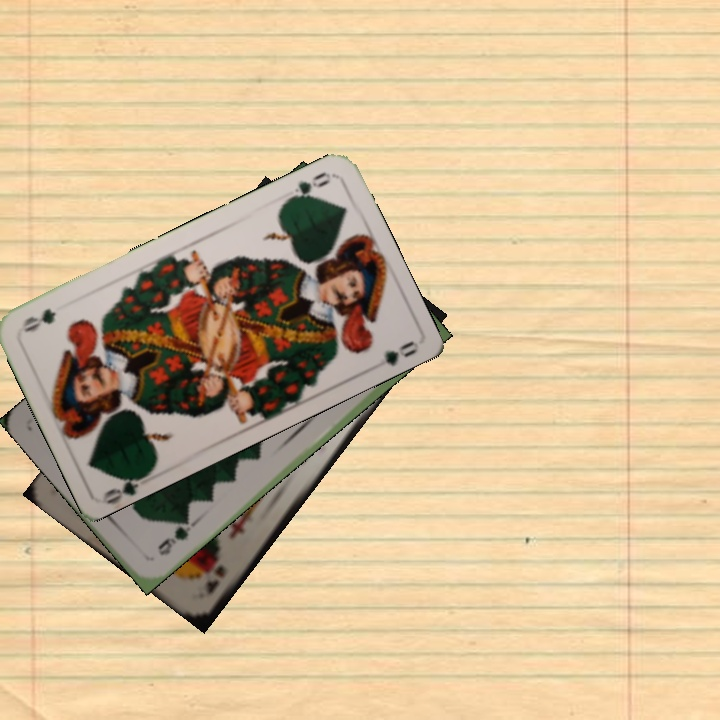G9: (153, 514, 198, 558)
GO: (100, 466, 154, 505), (281, 167, 334, 206)
SK: (202, 561, 229, 598)
